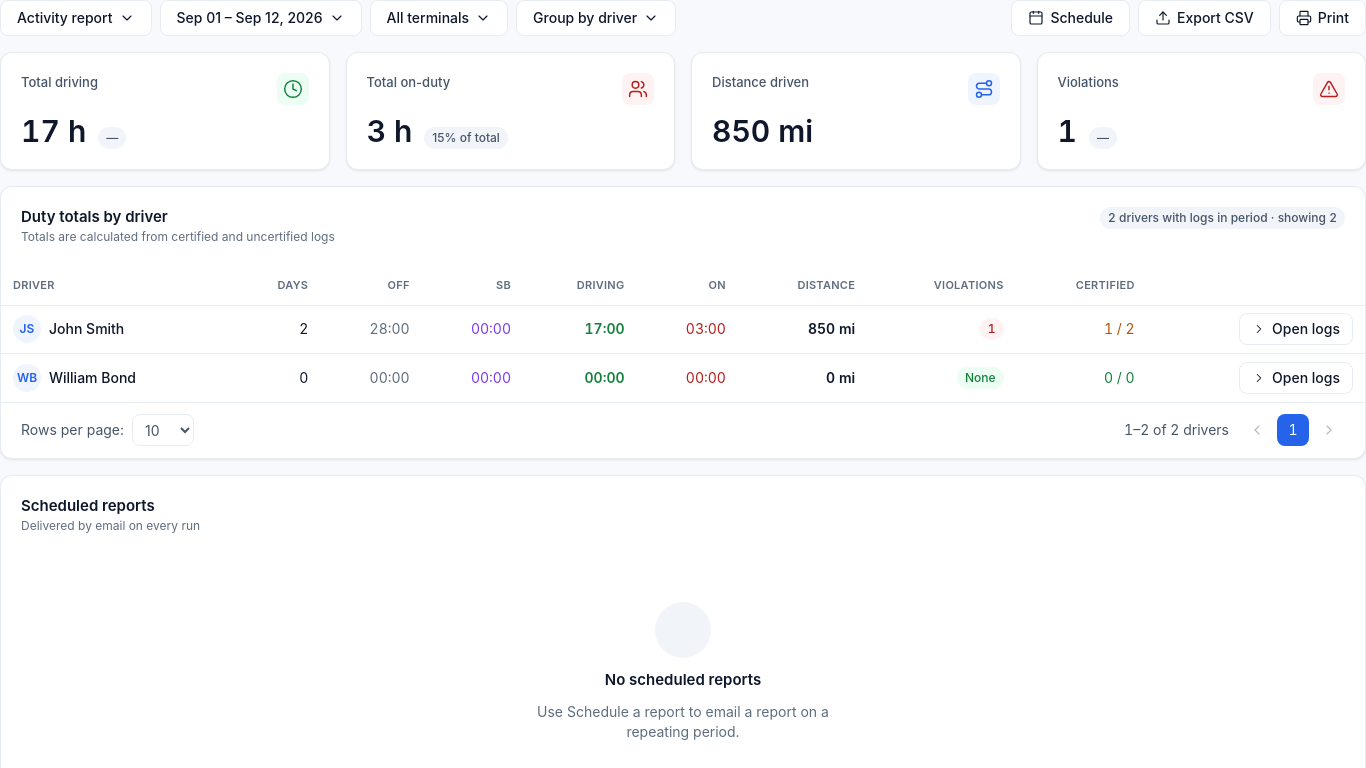
Test: W-13 Reports · Activity report › opens the driver log for the last day of the range
This screenshot has width=1366, height=768.
Click the button with aria-label "Open logs for John Smith".
click(1296, 329)  # box [1239,313,1353,345]
(page scrolled)
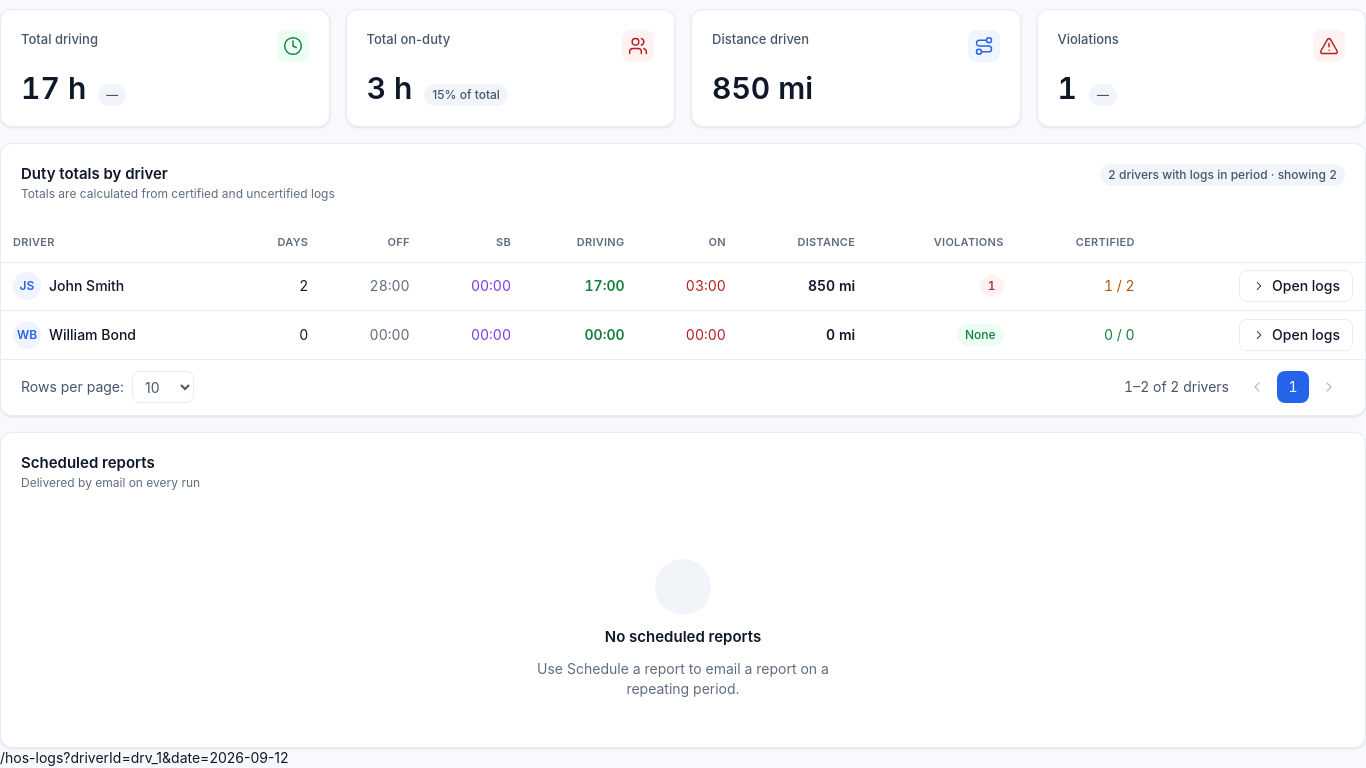
Result: the text with test id "location" reads "/hos-logs?driverId=drv_1&date=2026-09-12" at [0,748,289,766]
